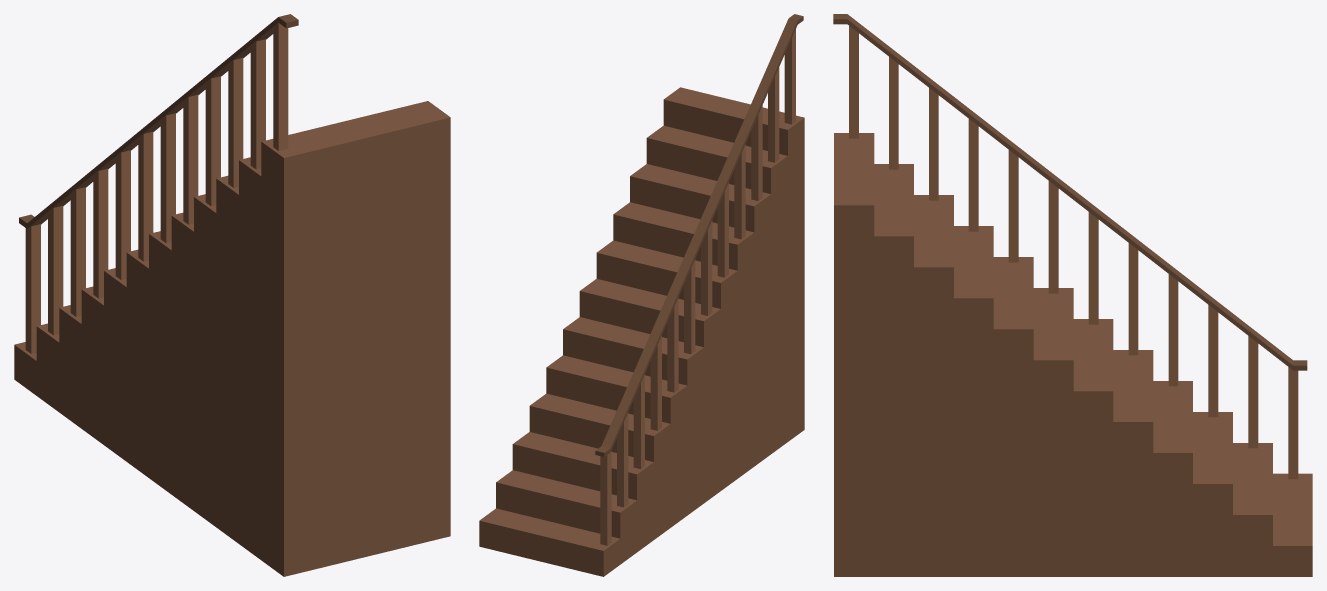
The model's file is Stairs4_C1.fbx.
3 renders of one model, left to right at view 1: azimuth 30°, elevation 25°; view 2: azimuth 150°, elevation 25°; view 3: azimuth 270°, elevation 25°, orthographic. The views are drawn at different scales.
Parts seen in each view (by area): view 1: Stairs4_C1; view 2: Stairs4_C1; view 3: Stairs4_C1.
Boxes of the visible parts, left/top/right/bottom form: Stairs4_C1: left=14, top=14, right=450, bottom=576; Stairs4_C1: left=479, top=14, right=804, bottom=576; Stairs4_C1: left=833, top=14, right=1312, bottom=576.
Bounding box in the file's own units: 125 × 397 × 351.
